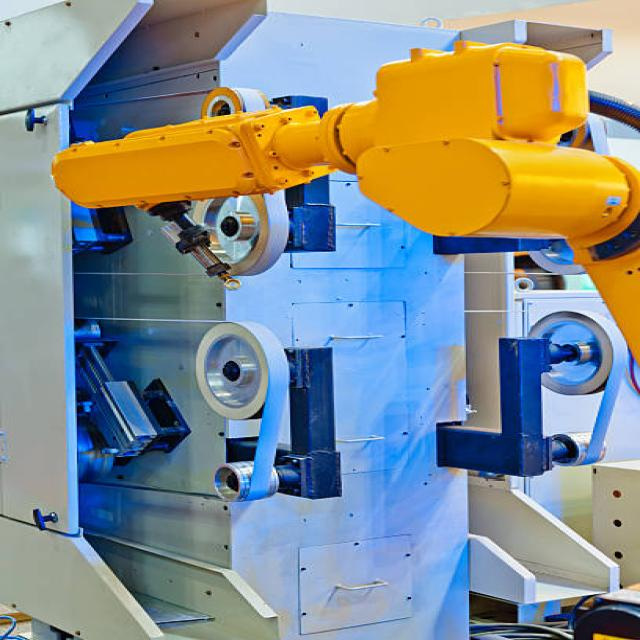Robotic-arm: (9, 41, 640, 367)
